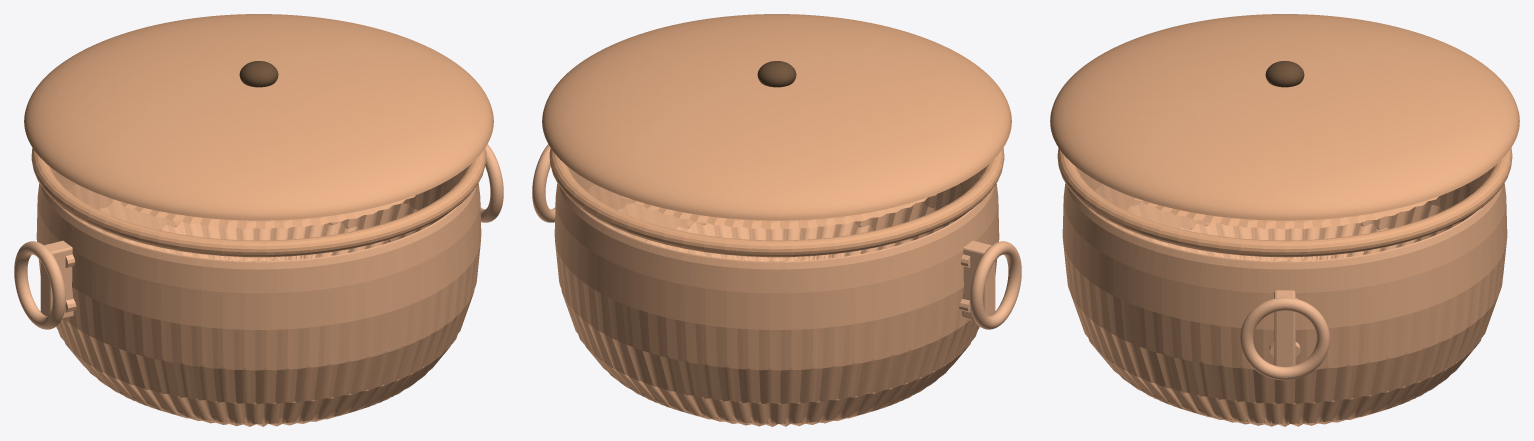
3 views of the same model, side by side, from view 1: azimuth 30°, elevation 25°; view 2: azimuth 150°, elevation 25°; view 3: azimuth 270°, elevation 25° (orthographic).
Visible parts, largest first — view 1: object 1, object 10, Pot_Handle_2, Pot_Handle_Connector_2, Pot_Handle_1; view 2: object 1, object 10, Pot_Handle_2, Pot_Handle_Connector_2, Pot_Handle_1; view 3: object 10, object 1, Pot_Handle_1, Pot_Handle_Connector_1.
Boxes of the visible parts, x1,y1,x2,y2 form: object 1: (31, 148, 486, 426); object 10: (24, 14, 493, 229); Pot_Handle_2: (14, 241, 65, 329); Pot_Handle_Connector_2: (40, 240, 73, 319); Pot_Handle_1: (480, 144, 503, 222); object 1: (549, 148, 1004, 426); object 10: (542, 14, 1011, 229); Pot_Handle_2: (970, 241, 1021, 329); Pot_Handle_Connector_2: (962, 240, 995, 319); Pot_Handle_1: (532, 144, 555, 222); object 10: (1050, 14, 1519, 229); object 1: (1057, 148, 1512, 426); Pot_Handle_1: (1240, 297, 1329, 380); Pot_Handle_Connector_1: (1274, 290, 1295, 366).
Size of the model in its own units: 0.7391 by 0.527 by 0.6689.
